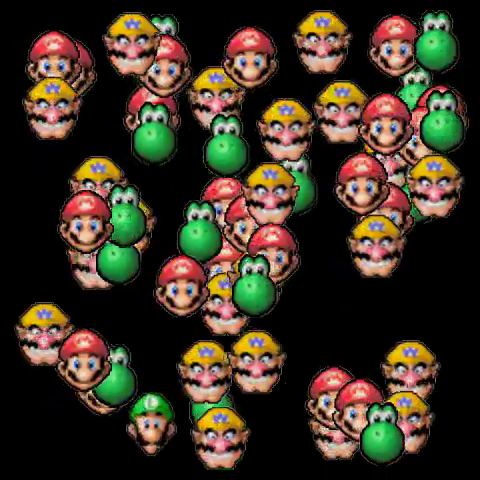luigi: (120, 389, 177, 457)
